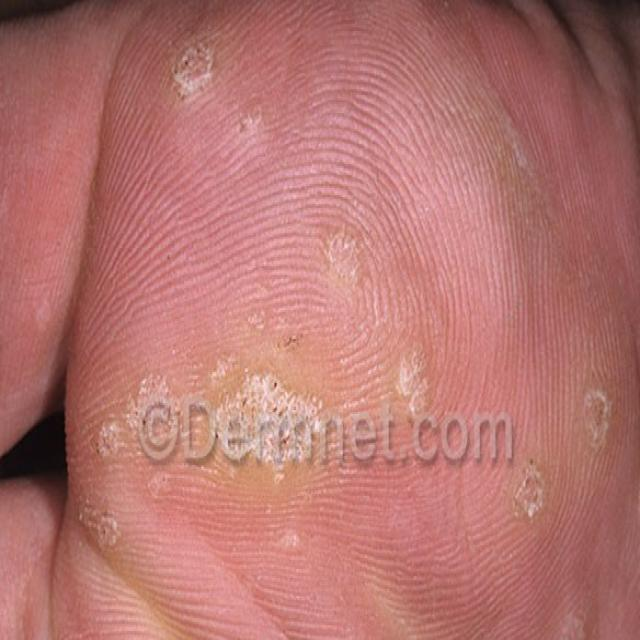Warts: (101, 358, 342, 520), (292, 205, 448, 410), (161, 37, 260, 107), (557, 385, 623, 454), (508, 456, 546, 522), (557, 589, 601, 640)
